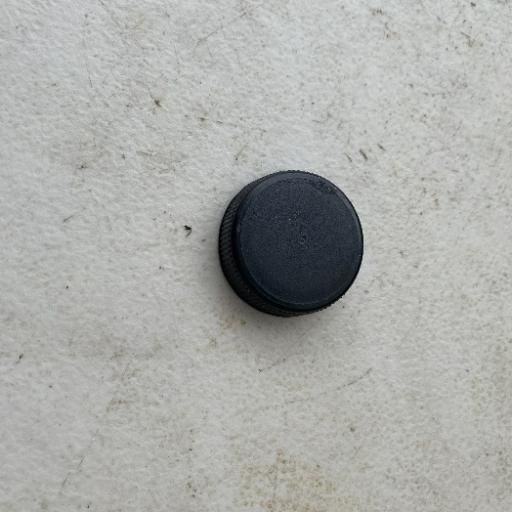Plastic: (215, 167, 365, 320)
